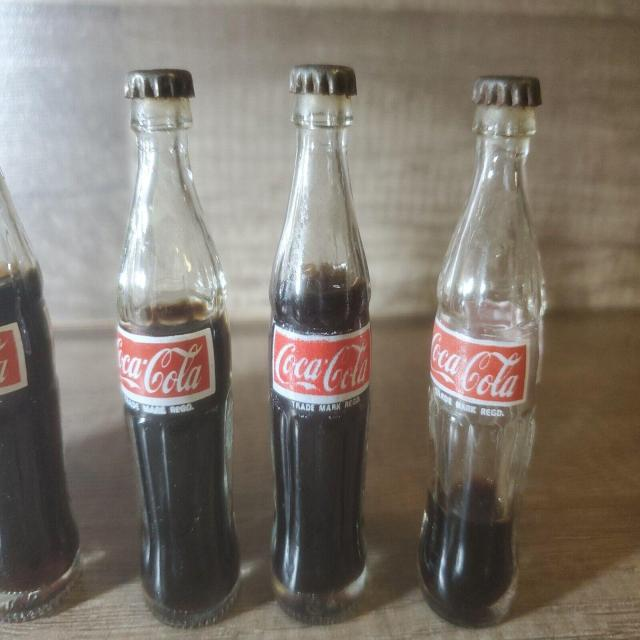glass bottle: (413, 74, 551, 616), (121, 67, 246, 626), (266, 60, 374, 626), (1, 148, 85, 626)
